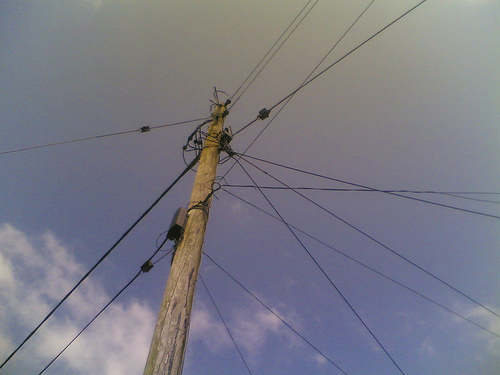pole: (134, 83, 245, 366)
